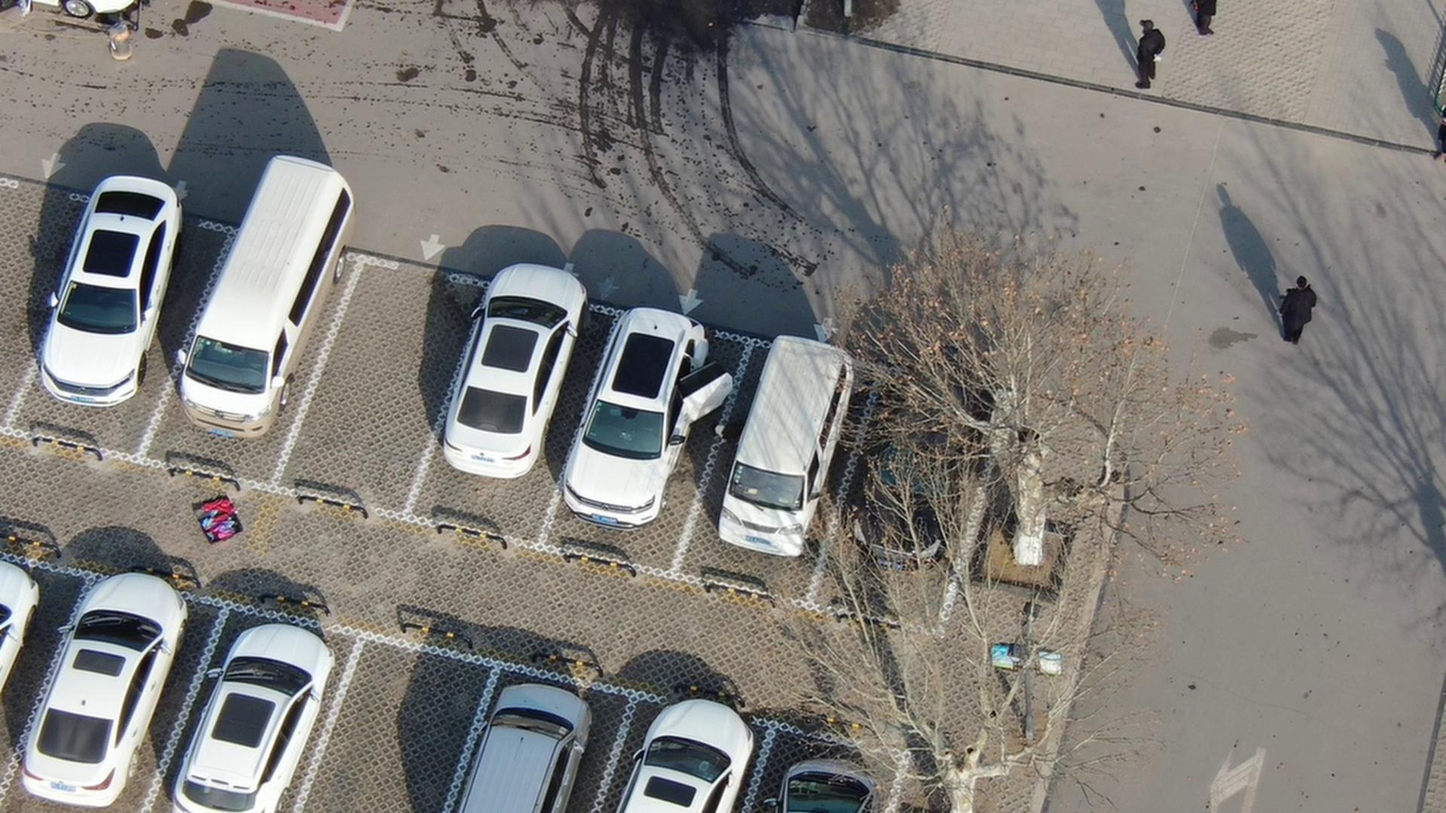human: (1122, 11, 1168, 104), (1270, 271, 1320, 356)
